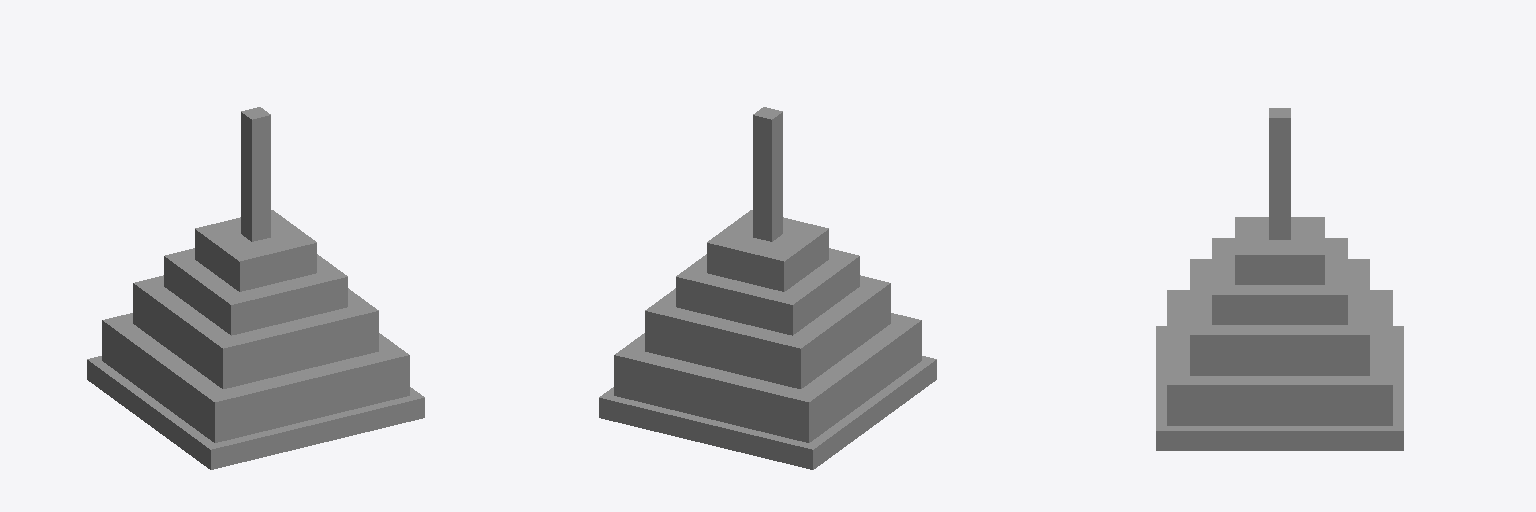
Rendered from rocket_cone_advanced.obj.
3 views of the same model, side by side, from view 1: azimuth 30°, elevation 25°; view 2: azimuth 150°, elevation 25°; view 3: azimuth 270°, elevation 25° (orthographic).
Visible parts, largest first — view 1: RocketTop.002_Cube.004; view 2: RocketTop.002_Cube.004; view 3: RocketTop.002_Cube.004.
Boxes of the visible parts, x1,y1,x2,y2 form: RocketTop.002_Cube.004: [87, 107, 424, 469]; RocketTop.002_Cube.004: [599, 107, 936, 469]; RocketTop.002_Cube.004: [1156, 108, 1403, 450].
Size of the model in its own units: 1.38 by 1.75 by 1.38.